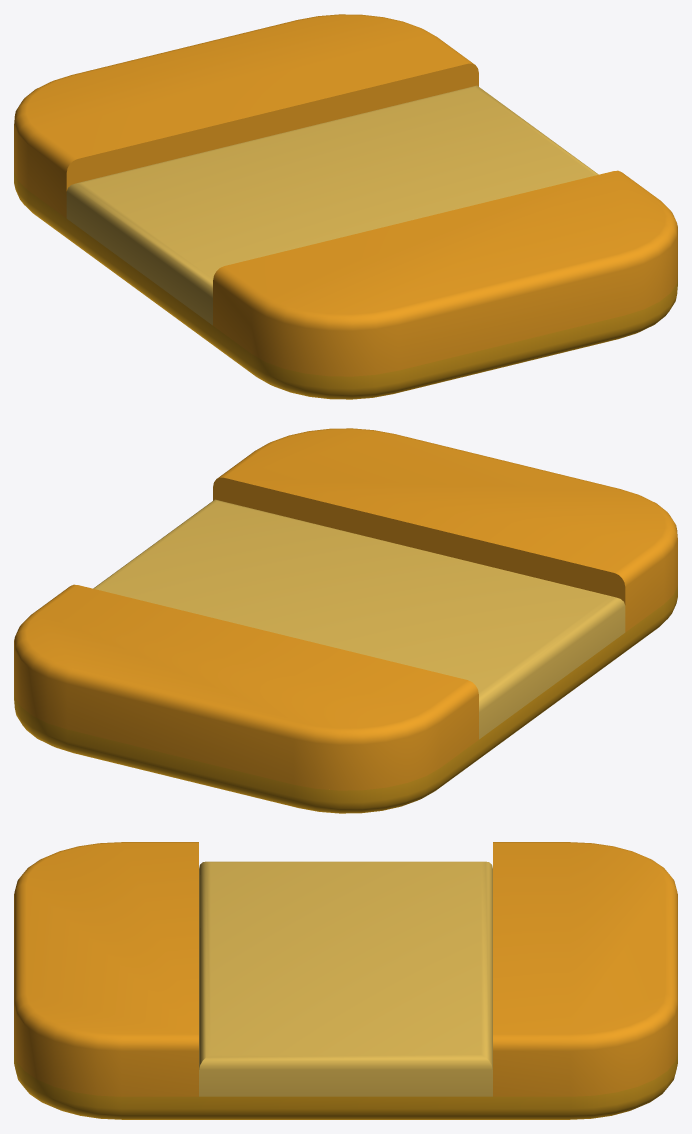
File: Button_v1_2.fbx
The picture shows the model from 3 angles, top to bottom: view 1: azimuth 30°, elevation 25°; view 2: azimuth 150°, elevation 25°; view 3: azimuth 270°, elevation 25°; orthographic projection.
Parts seen in each view (by area): view 1: Down, Center, Up, Base; view 2: Up, Center, Down, Base; view 3: Center, Down, Up, Base.
Boxes of the visible parts, <box> form: Down: <box>213,170,677,376</box>; Center: <box>66,85,598,325</box>; Up: <box>14,14,478,218</box>; Base: <box>14,171,677,399</box>; Up: <box>14,584,478,790</box>; Center: <box>93,499,625,739</box>; Down: <box>213,428,677,632</box>; Base: <box>14,585,677,813</box>; Center: <box>199,861,492,1096</box>; Down: <box>14,842,198,1096</box>; Up: <box>493,842,677,1096</box>; Base: <box>14,1052,677,1119</box>.
Bounding box in the file's own units: 227 × 45.41 × 316.
